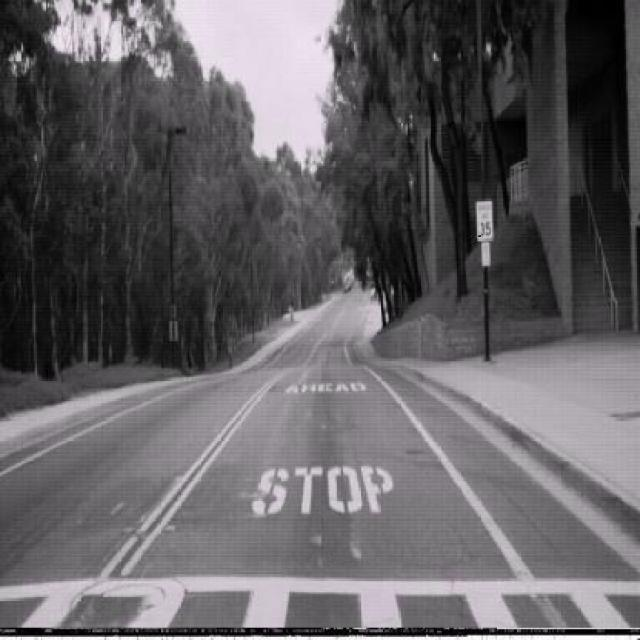speedLimit35: (476, 197, 494, 241)
